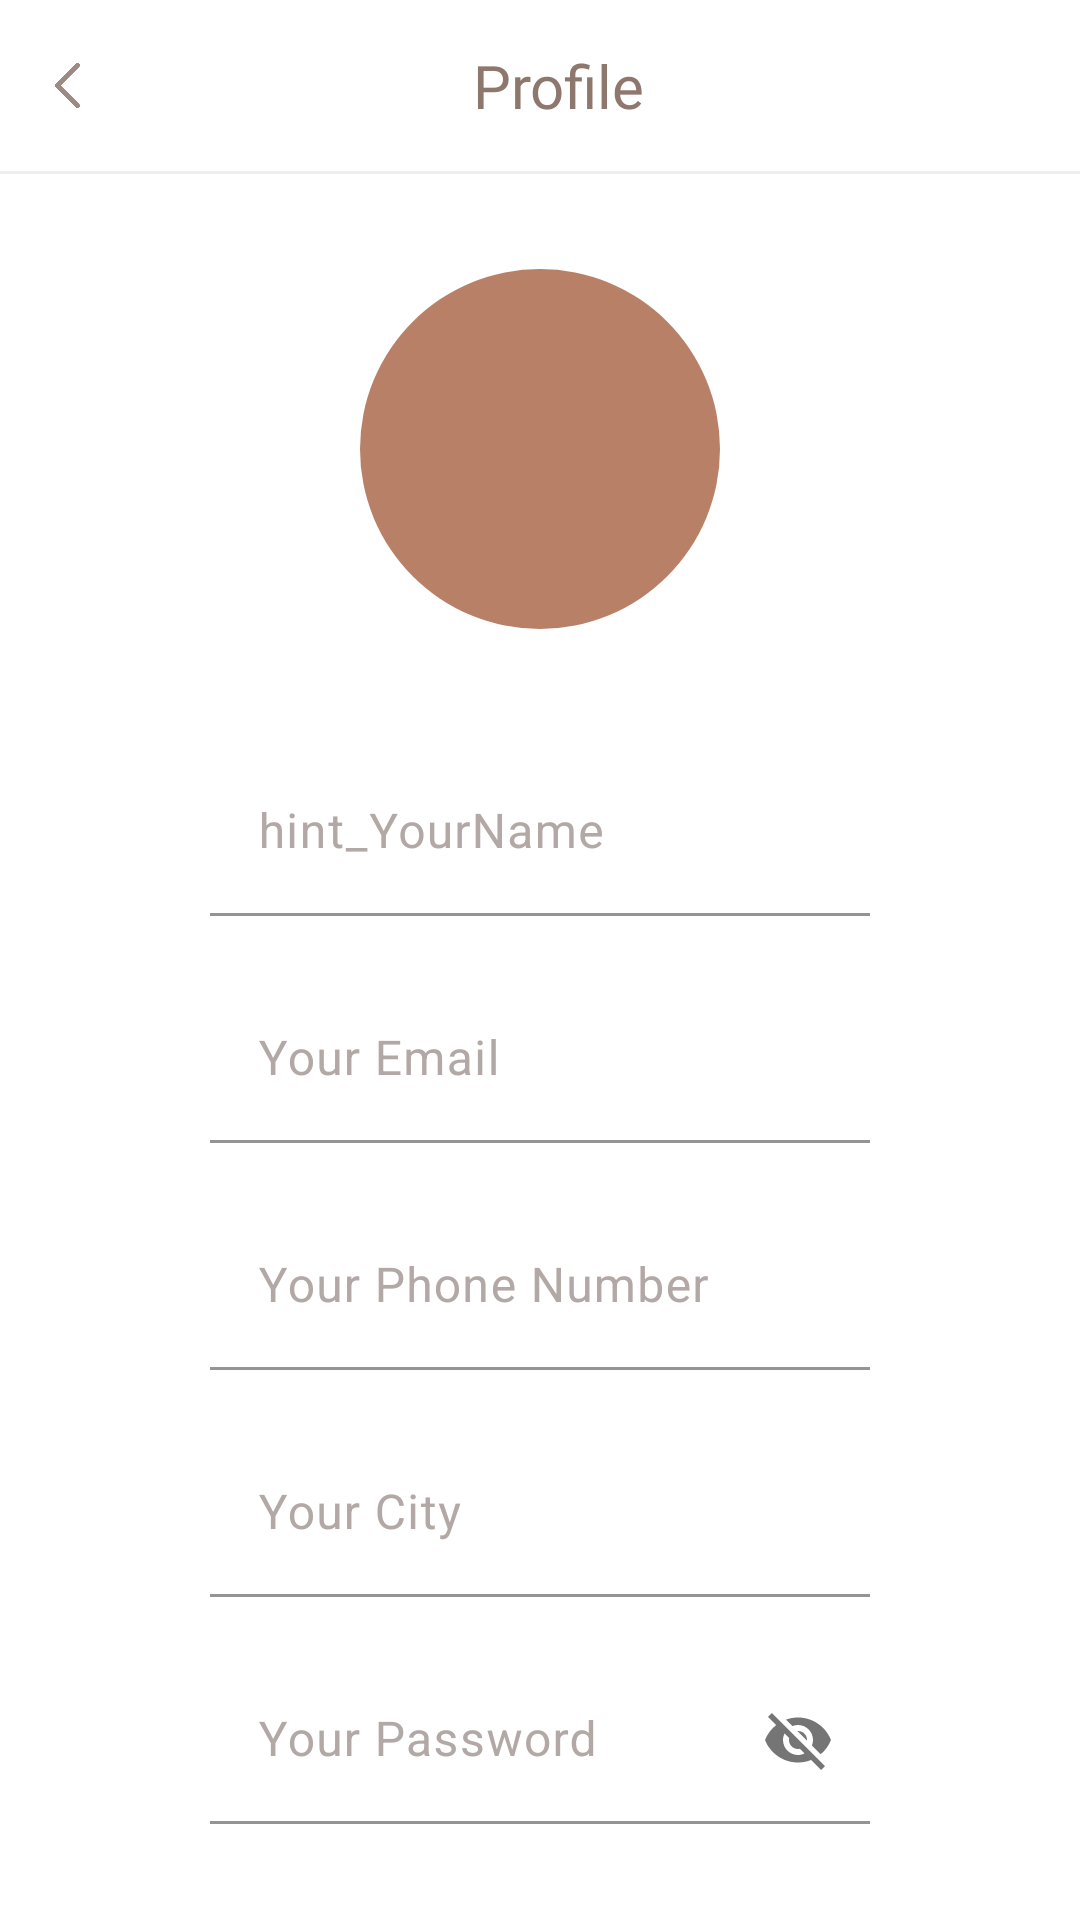

Screen size 1080*1920. Icon name, then its box in pixels as Rect(x1, y1, x2, y2):
Back: Rect(55, 63, 80, 108)
